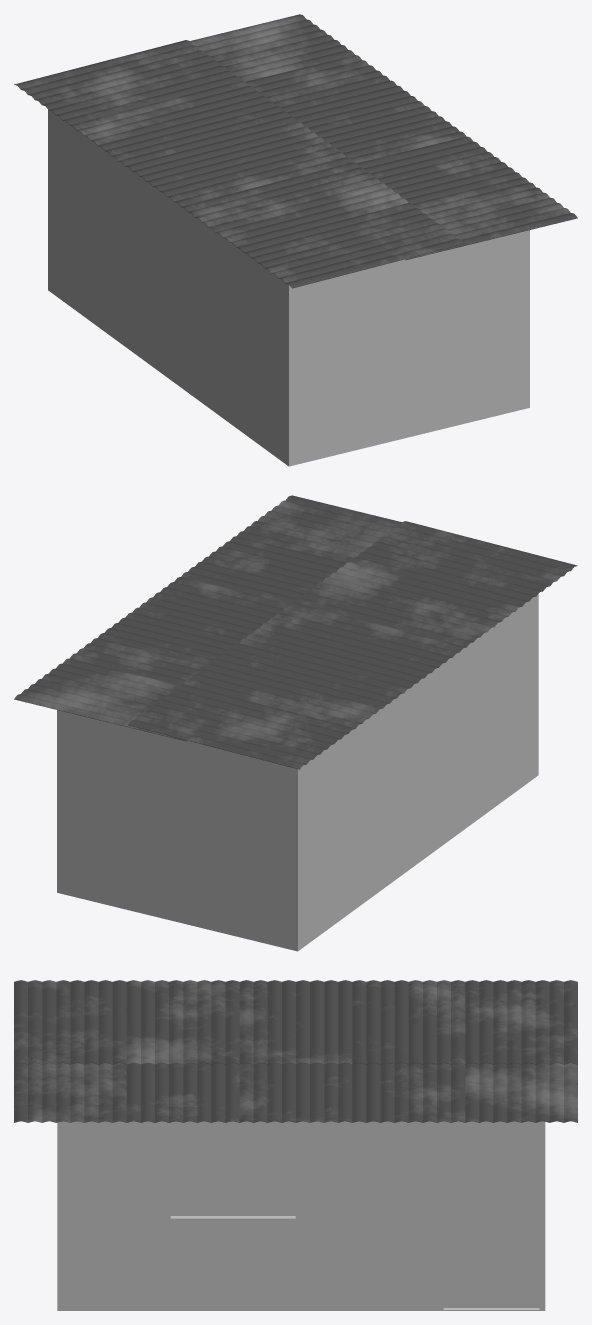
The model's file is Casa09.fbx.
The picture shows the model from 3 angles, top to bottom: view 1: azimuth 30°, elevation 25°; view 2: azimuth 150°, elevation 25°; view 3: azimuth 270°, elevation 25°; orthographic projection.
Parts seen in each view (by area): view 1: Casa 09, Techo_1.008; view 2: Casa 09, Techo_1.008; view 3: Casa 09, Techo_1.008.
Part boxes in pixels (bbox=[...]): Casa 09: bbox=[48, 110, 529, 466]; Techo_1.008: bbox=[14, 14, 577, 288]; Casa 09: bbox=[57, 594, 538, 951]; Techo_1.008: bbox=[14, 495, 577, 769]; Casa 09: bbox=[57, 1121, 545, 1310]; Techo_1.008: bbox=[14, 980, 577, 1122].
Size of the model in its own units: 2563 by 1737 by 4325.
